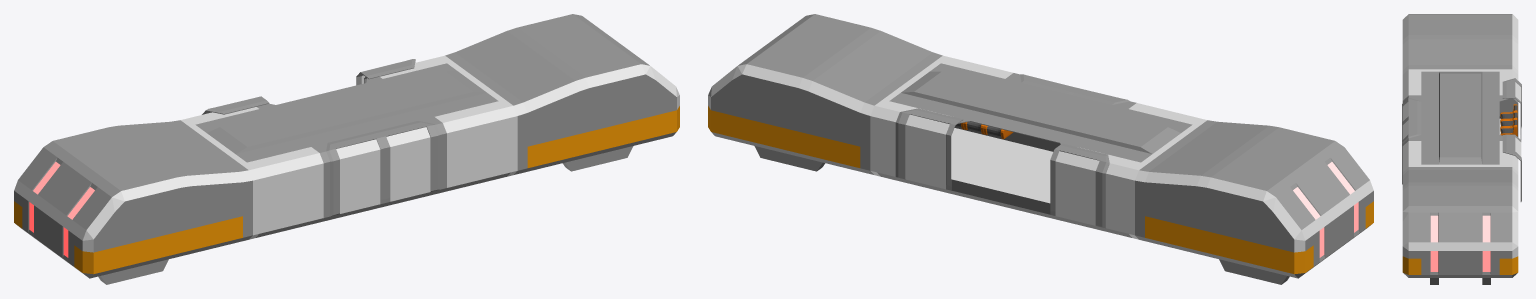
Rendered from metro.fbx.
The picture shows the model from 3 angles, left to right: view 1: azimuth 30°, elevation 25°; view 2: azimuth 150°, elevation 25°; view 3: azimuth 270°, elevation 25°; orthographic projection. The views are drawn at different scales.
Parts seen in each view (by area): view 1: frame, glass, door.004, door.003, door.002, door.001; view 2: frame, glass, door.002, door.001, door.004, door.003, metro_chair; view 3: frame, glass, door.002, door.001, metro_chair, door.003, door.004.
Part boxes in pixels (x1=…): frame: x1=14, y1=14, x2=679, y2=284; glass: x1=187, y1=57, x2=511, y2=233; door.004: x1=326, y1=132, x2=385, y2=216; door.003: x1=373, y1=121, x2=440, y2=202; door.002: x1=356, y1=59, x2=415, y2=85; door.001: x1=202, y1=96, x2=269, y2=114; frame: x1=708, y1=14, x2=1373, y2=284; glass: x1=876, y1=57, x2=1200, y2=233; door.002: x1=895, y1=108, x2=963, y2=190; door.001: x1=1050, y1=143, x2=1109, y2=228; door.004: x1=1067, y1=87, x2=1129, y2=104; door.003: x1=1020, y1=74, x2=1074, y2=93; metro_chair: x1=955, y1=121, x2=1013, y2=139; frame: x1=1402, y1=14, x2=1518, y2=284; glass: x1=1402, y1=71, x2=1518, y2=169; door.002: x1=1502, y1=134, x2=1521, y2=201; door.001: x1=1502, y1=78, x2=1521, y2=139; metro_chair: x1=1500, y1=104, x2=1517, y2=136; door.003: x1=1402, y1=117, x2=1421, y2=184; door.004: x1=1402, y1=98, x2=1421, y2=141.
Size of the model in its own units: 1800 by 300 by 414.
